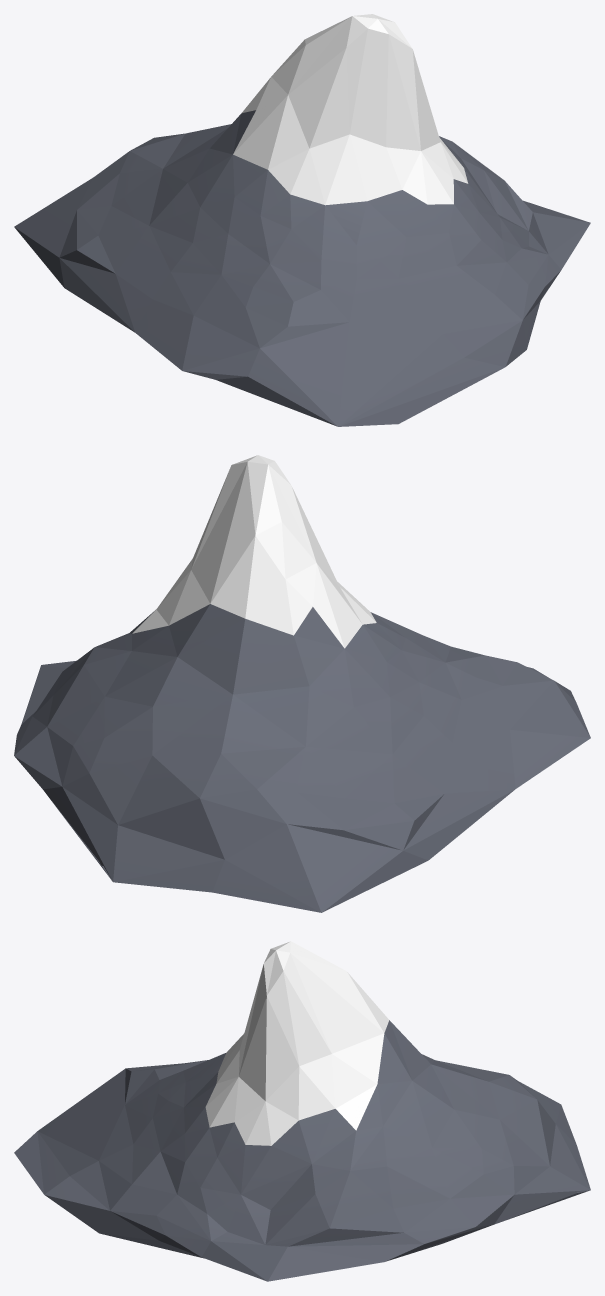
File: Mountain_02.fbx
The picture shows the model from 3 angles, top to bottom: view 1: azimuth 30°, elevation 25°; view 2: azimuth 150°, elevation 25°; view 3: azimuth 270°, elevation 25°; orthographic projection. The views are drawn at different scales.
Parts seen in each view (by area): view 1: Mountain_02; view 2: Mountain_02; view 3: Mountain_02.
Part boxes in pixels (left/top/right/bottom): Mountain_02: left=14, top=14, right=590, bottom=426; Mountain_02: left=14, top=455, right=590, bottom=912; Mountain_02: left=14, top=941, right=590, bottom=1281.
Bounding box in the file's own units: 69.8 × 39.84 × 80.37.
